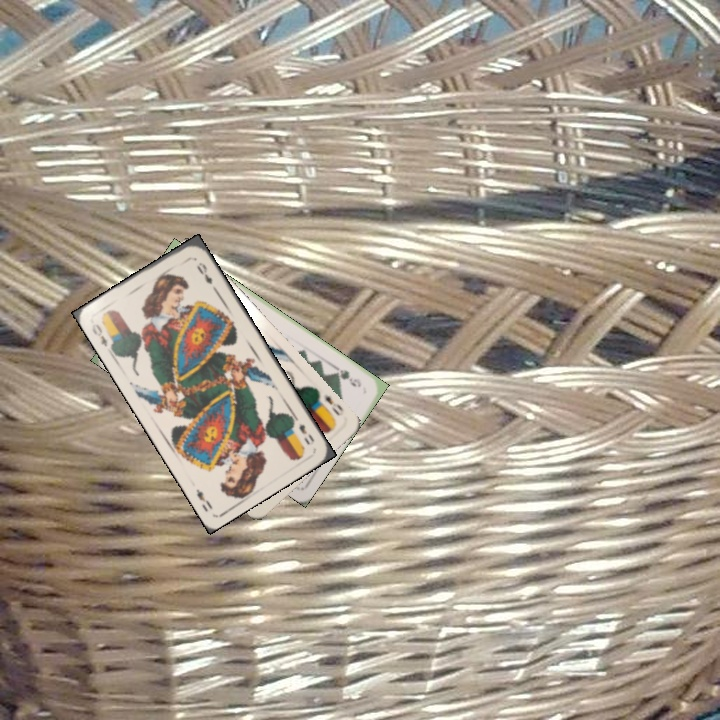EO: (289, 413, 317, 447), (313, 390, 344, 419), (88, 319, 110, 349)
G9: (330, 365, 364, 390)
